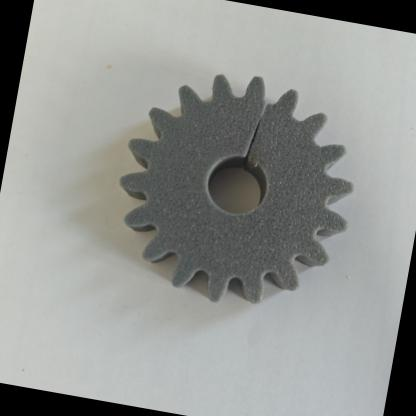defect: (207, 61, 315, 183)
gear: (88, 34, 384, 340)
